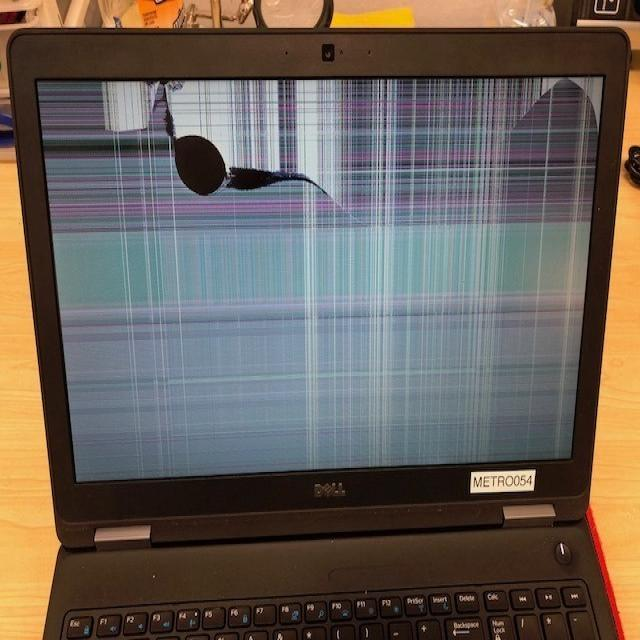Screen cracks: (33, 74, 604, 498), (156, 93, 375, 239)
